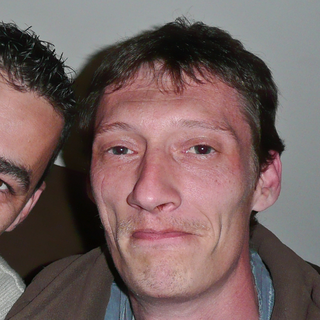eye: (176, 135, 227, 167), (100, 138, 144, 163)
